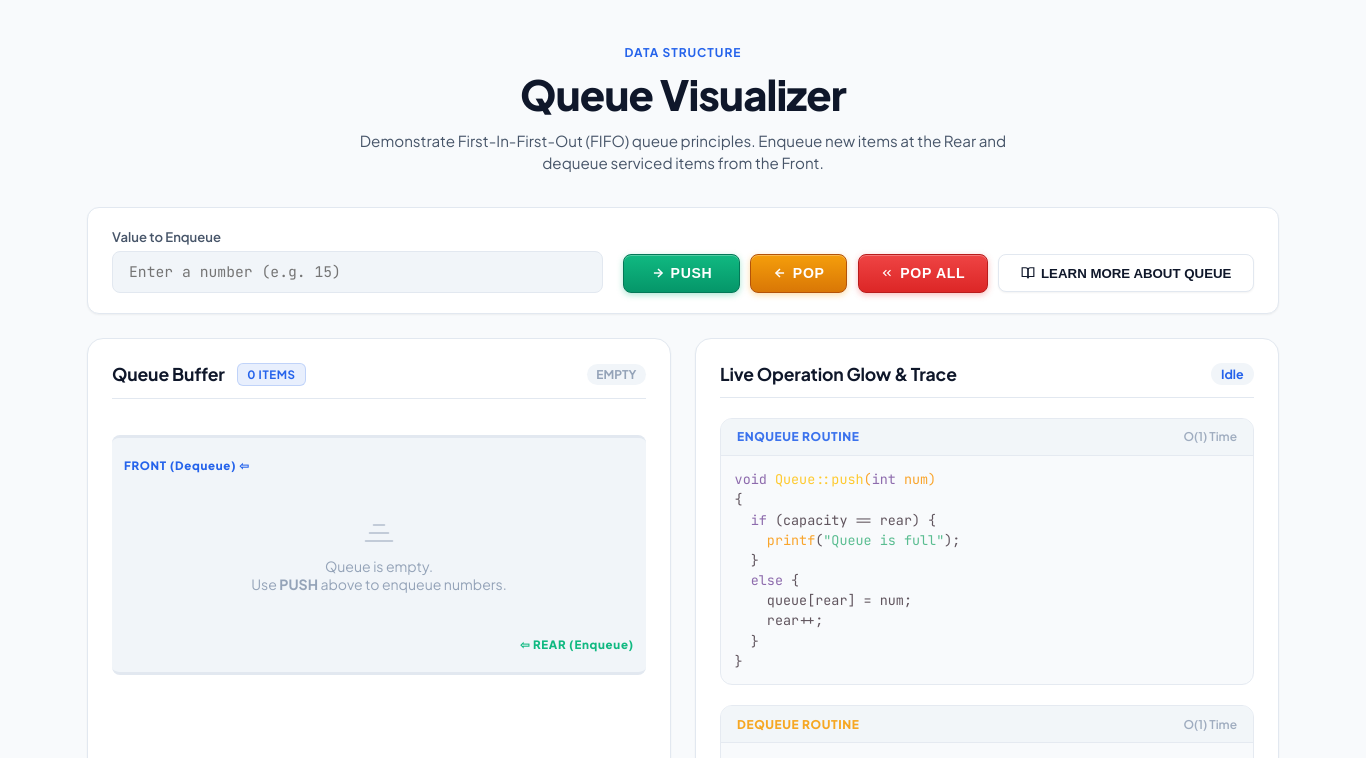
Test case: should run queue component with box
Type "7" into the field with test id "queueInput" at (358, 272), box [112,251,603,293]
Click the button "PUSH" at (681, 273), box [623,254,740,293]
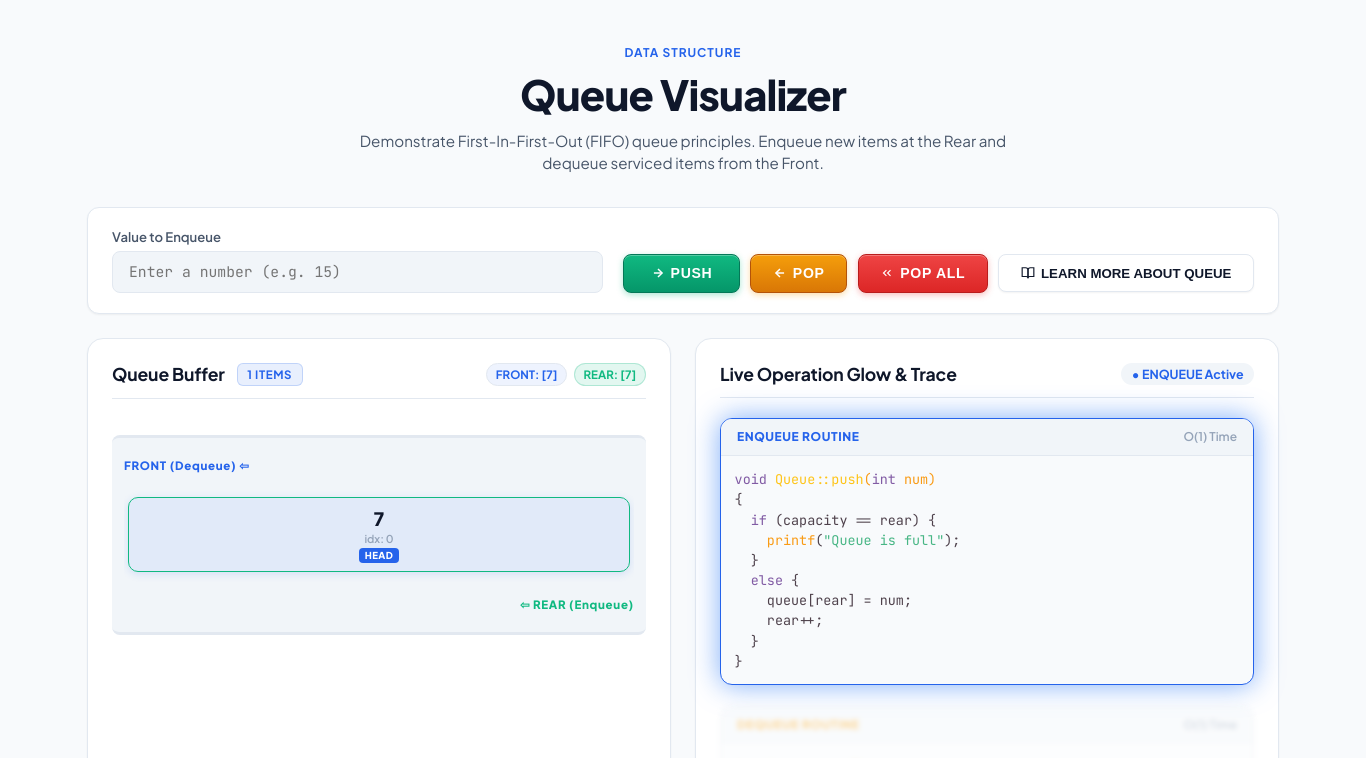
Type "10" into the field with test id "queueInput" at (358, 272), box [112,251,603,293]
Click the button "PUSH" at (681, 273), box [623,254,740,293]
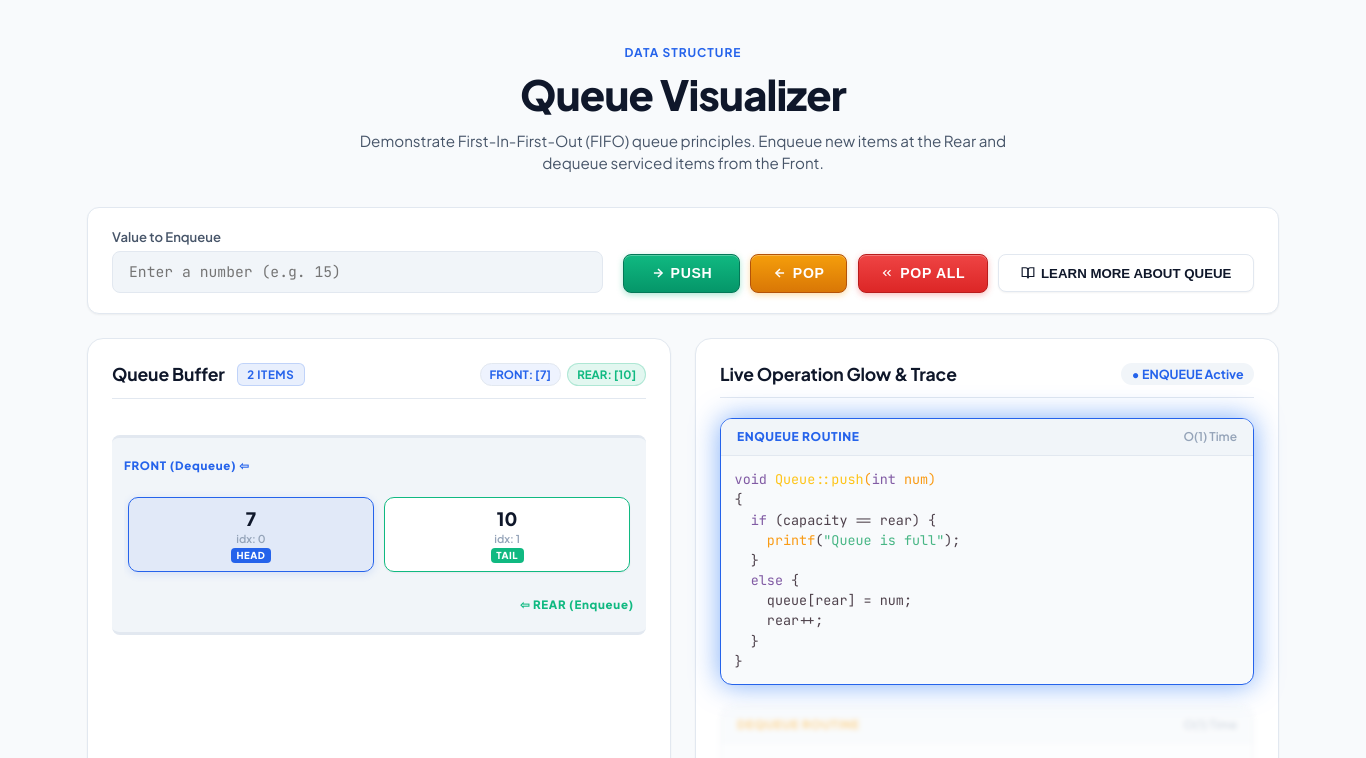
Type "18" into the field with test id "queueInput" at (358, 272), box [112,251,603,293]
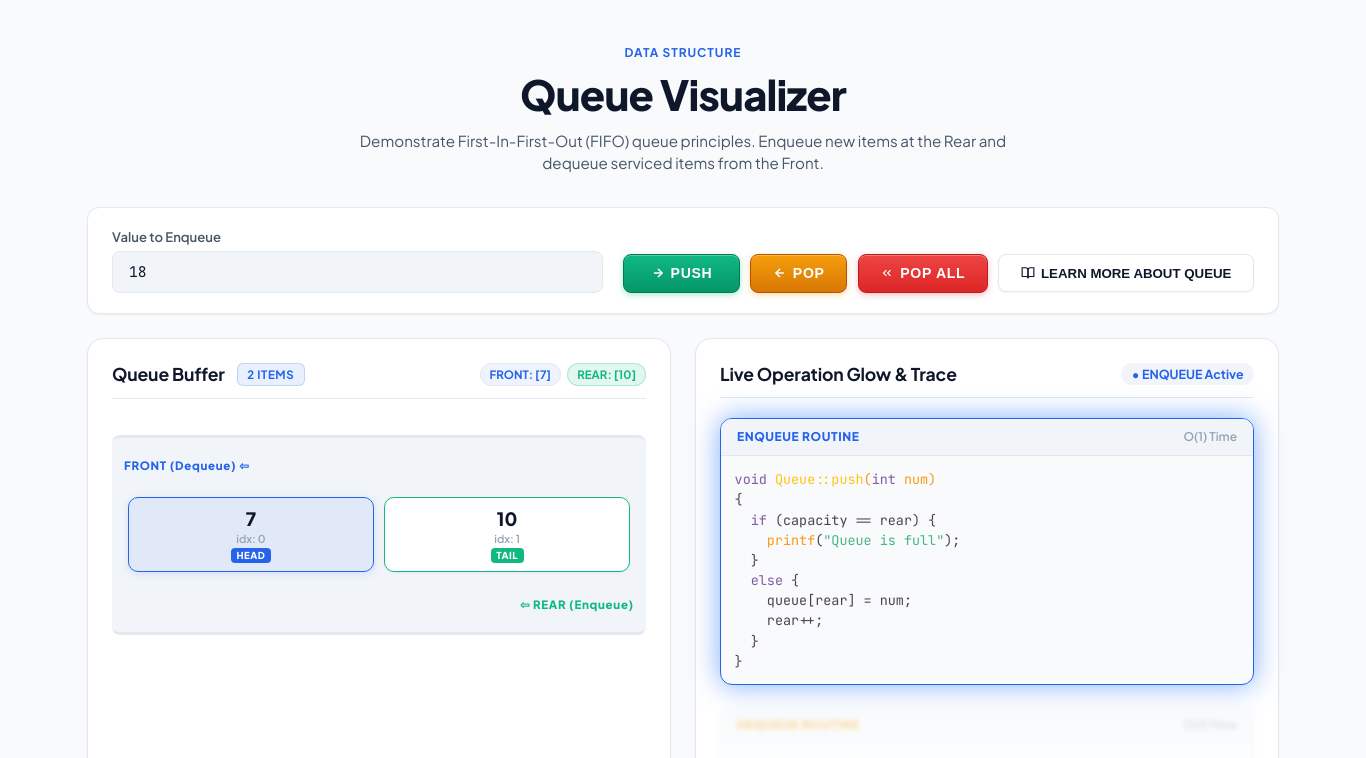
Click the button "PUSH" at (681, 273), box [623,254,740,293]
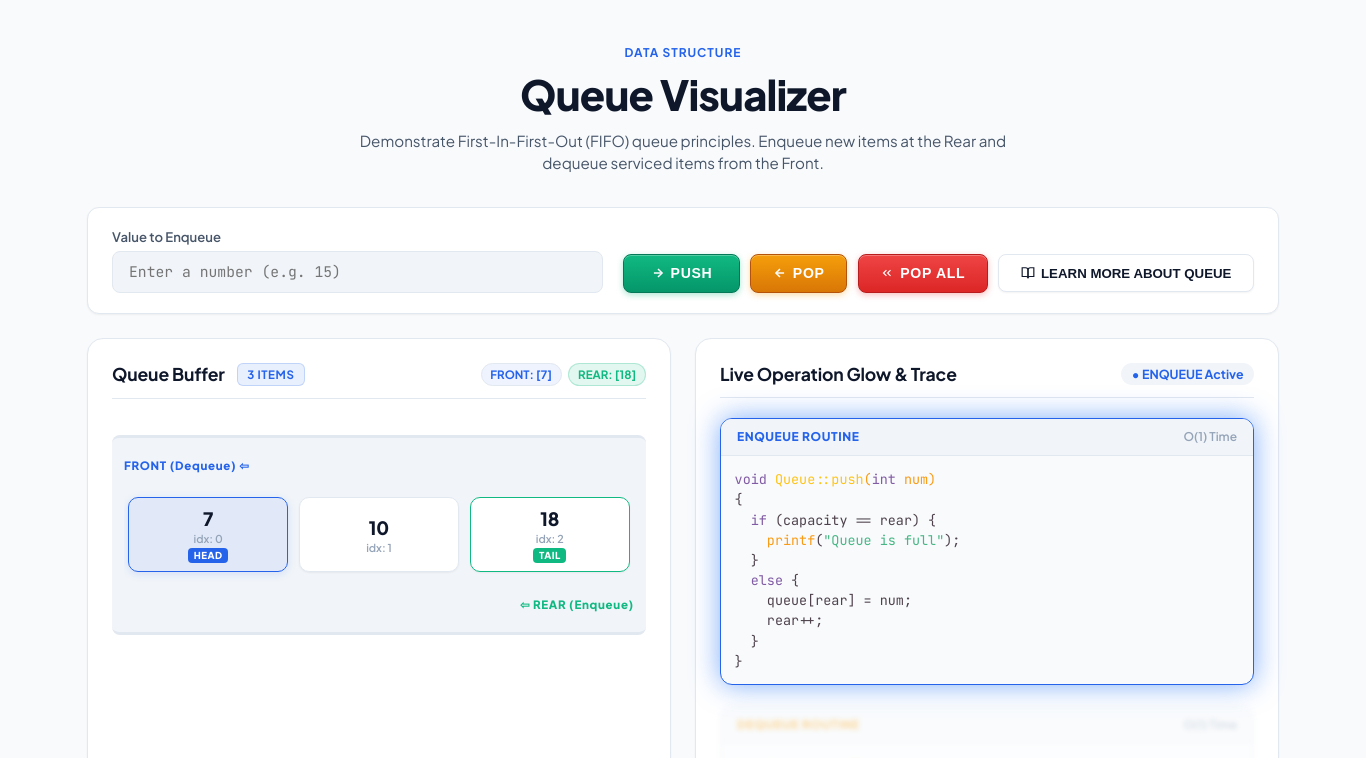
Result: the number of elements with test id "queueBox" is 3 at [128,497,288,572]; [299,497,459,572]; [470,497,630,572]
Click the button "POP" at (799, 273), box [750,254,847,293]
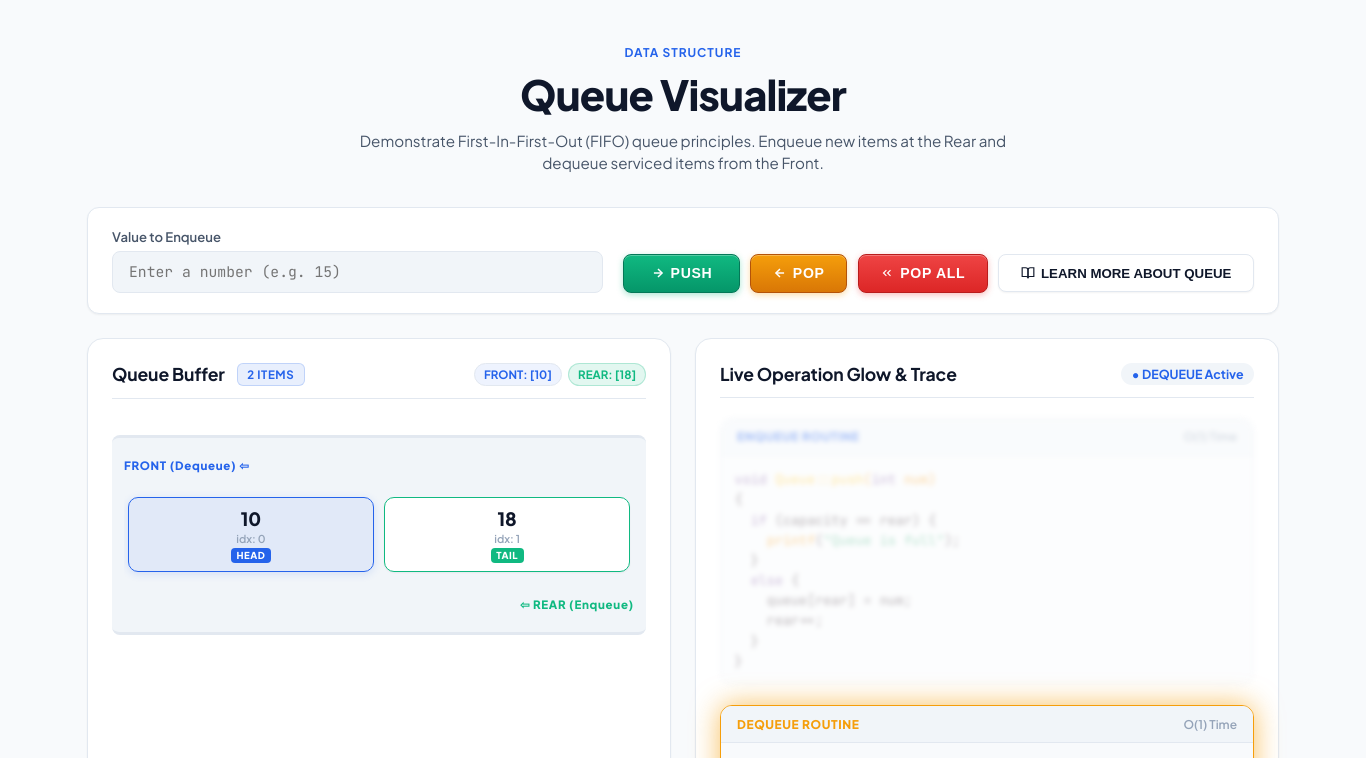
Result: the number of elements with test id "queueBox" is 2 at [128,497,374,572]; [384,497,630,572]
Click the button "POP ALL" at (923, 273), box [858,254,988,293]
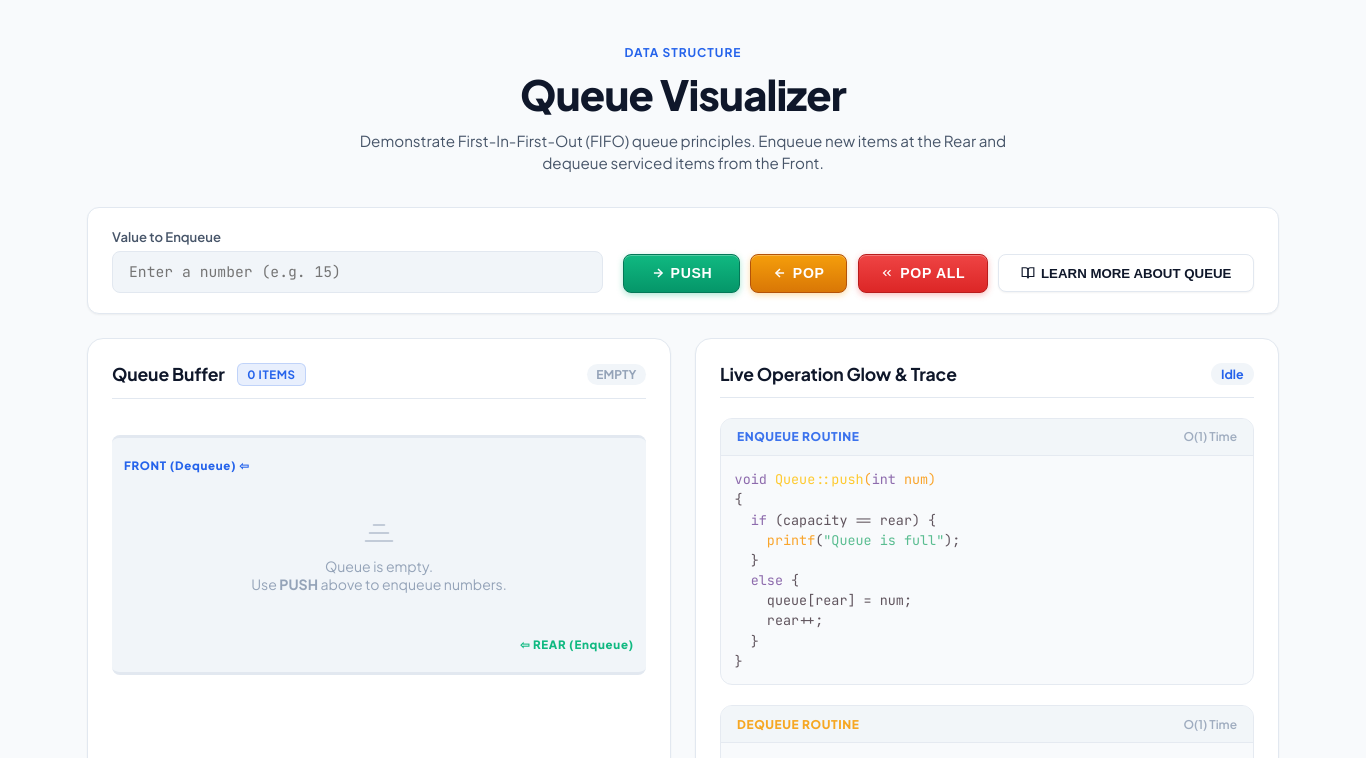
Result: no elements with test id "queueBox" are shown
